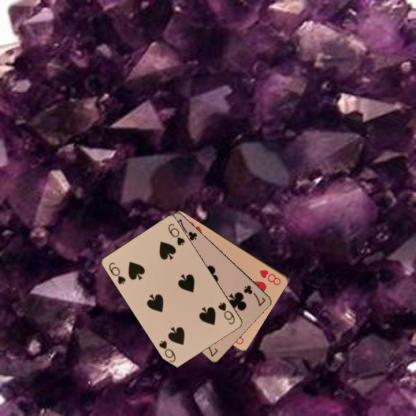6s: (106, 260, 128, 285), (216, 300, 236, 326)
7c: (241, 283, 267, 308)
8h: (257, 267, 283, 287)
